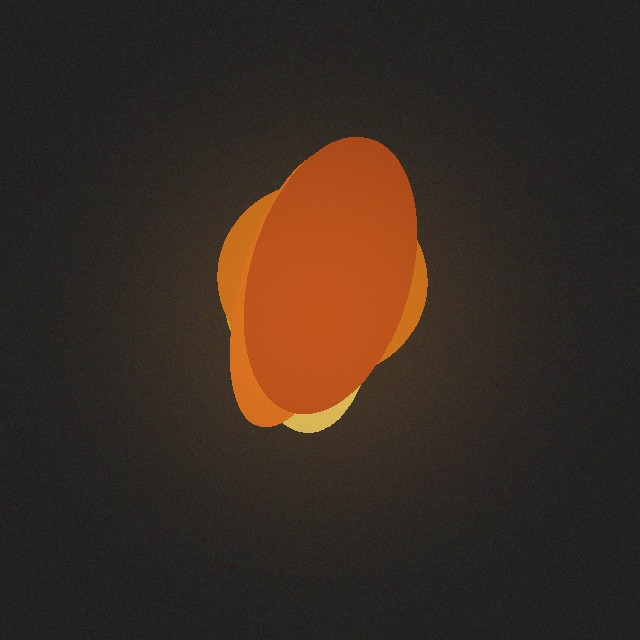fire: (202, 229, 432, 407)
